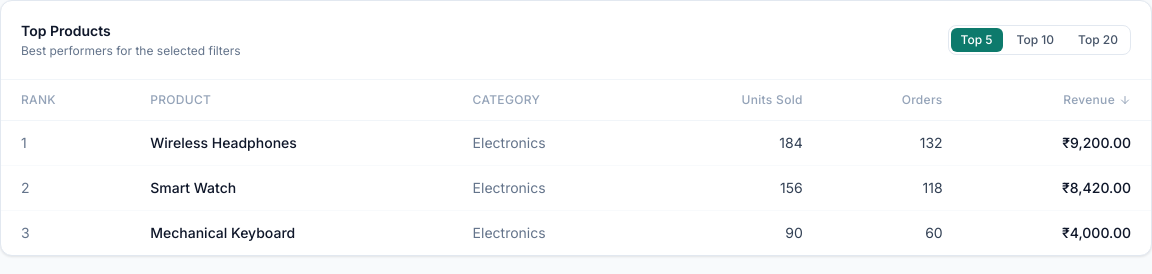
Test: TopProductsTable › sorting by Units Sold reorders rows without changing the fetched dataset
Click the button with aria-label "sort by units sold" at (772, 100), box [742, 92, 803, 108]
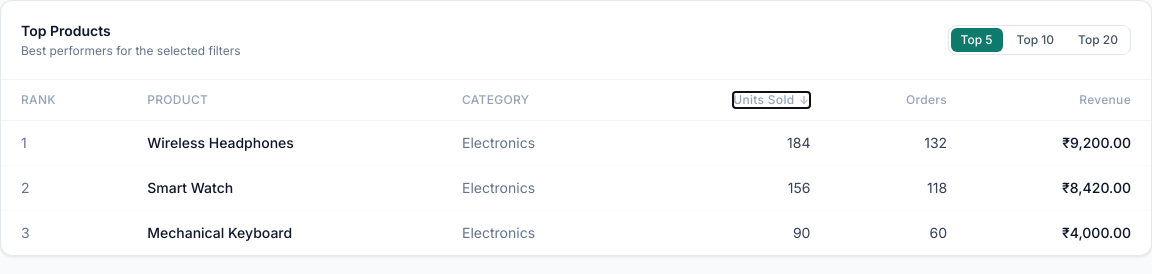
expect the text "Wireless Headphones" is shown: met, box [127, 120, 442, 166]
Click the button with aria-label "sort by units sold" at (772, 100), box [733, 92, 810, 108]
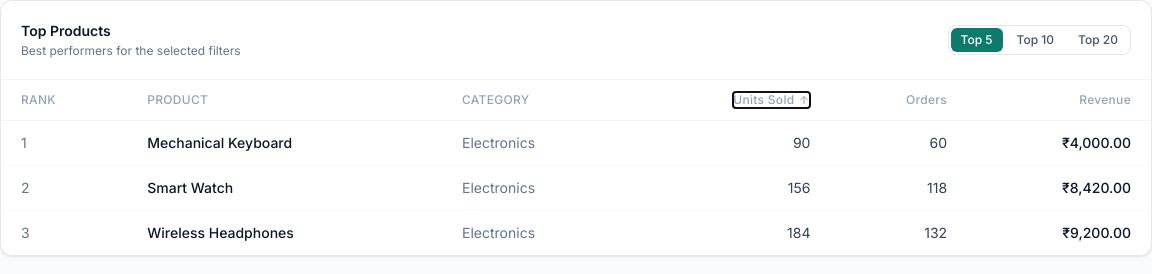
expect the text "Mechanical Keyboard" is shown: met, box [127, 120, 442, 166]
